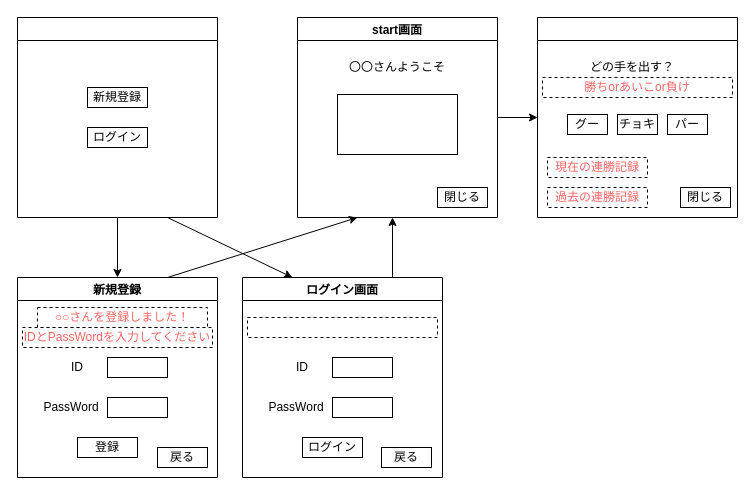
The diagram is 755 pixels wide and 495 high, and some of its shapes have lost their labels. The shapes that lost their labels are listed below. From the top down, each one's box as (x1, y1, x2, y2) in pixels, then its label:
(16, 16, 218, 218): entrance画面
(336, 94, 458, 154): start !
(536, 16, 738, 218): じゃんけん画面
(246, 316, 438, 338): IDかPassWordが間違っています
